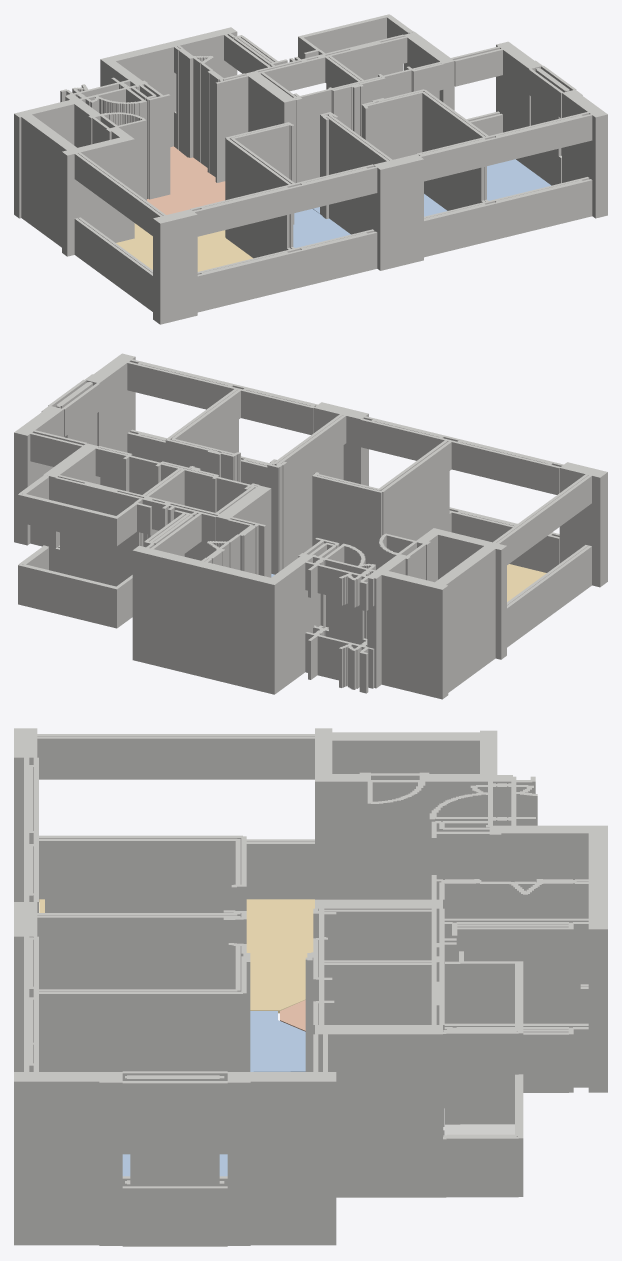
3 renders of one model, top to bottom at view 1: azimuth 30°, elevation 25°; view 2: azimuth 150°, elevation 25°; view 3: azimuth 270°, elevation 25°, orthographic. The views are drawn at different scales.
Visible parts, largest first — view 1: walls, room:kitchen:0, room:living:6, room:bedroom:3, room:bedroom:5; view 2: walls, room:living:6; view 3: walls, room:living:6, room:bedroom:5, room:ledge:7.
Part boxes in pixels (left/top/right/bottom): walls: left=14, top=14, right=607, bottom=324; room:kitchen:0: left=147, top=146, right=225, bottom=214; room:living:6: left=116, top=223, right=252, bottom=271; room:bedroom:3: left=487, top=159, right=550, bottom=200; room:bedroom:5: left=293, top=209, right=350, bottom=247; walls: left=14, top=353, right=607, bottom=699; room:living:6: left=507, top=564, right=546, bottom=601; walls: left=14, top=728, right=607, bottom=1246; room:living:6: left=39, top=899, right=314, bottom=1013; room:bedroom:5: left=250, top=1011, right=305, bottom=1071; room:ledge:7: left=445, top=1124, right=514, bottom=1135.
Size of the model in its own units: 13.03 by 2.8 by 9.22.
